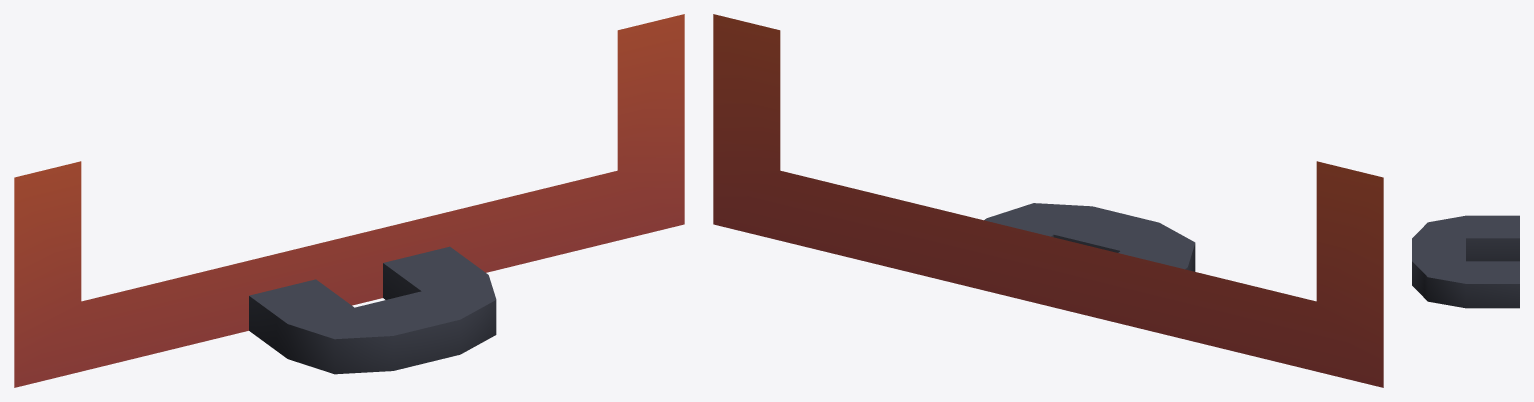
Rendered from track-striped-narrow-cap-back.glb.
3 renders of one model, left to right at view 1: azimuth 30°, elevation 25°; view 2: azimuth 150°, elevation 25°; view 3: azimuth 270°, elevation 25°, orthographic. The views are drawn at different scales.
Visible parts, largest first — view 1: track-striped-narrow-cap-back; view 2: track-striped-narrow-cap-back; view 3: track-striped-narrow-cap-back.
Part boxes in pixels (box(x1,y1,x2,y2)): track-striped-narrow-cap-back: box(14, 14, 684, 387); track-striped-narrow-cap-back: box(713, 14, 1383, 387); track-striped-narrow-cap-back: box(1412, 215, 1519, 308).
Bounding box in the file's own units: 1 × 0.3 × 0.2.
